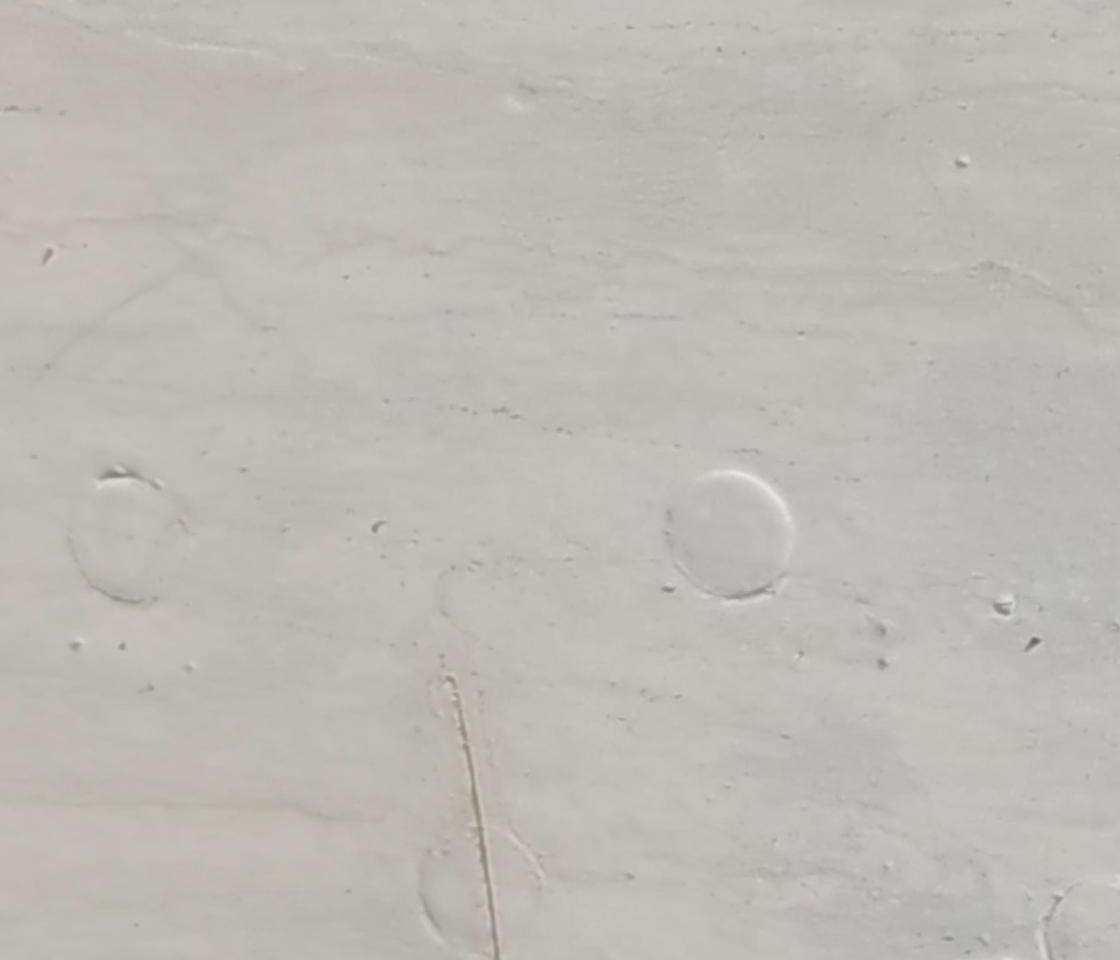scratch: (434, 666, 508, 960)
